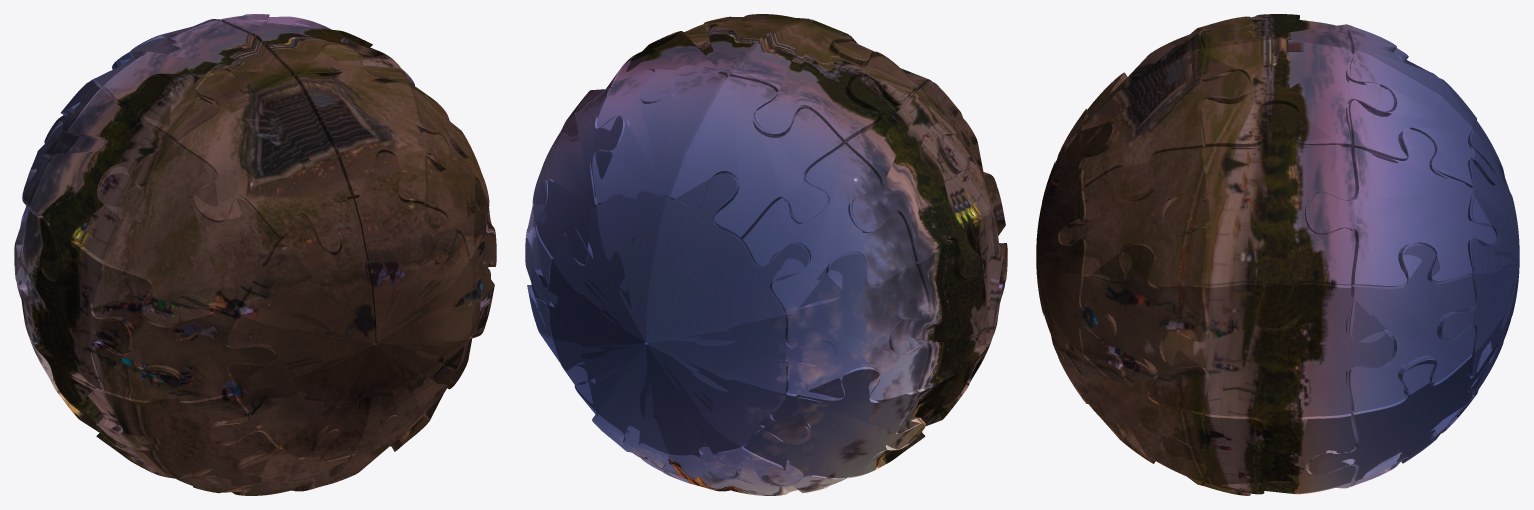
The model's file is easy-puzzle-v27.fbx.
3 views of the same model, side by side, from view 1: azimuth 30°, elevation 25°; view 2: azimuth 150°, elevation 25°; view 3: azimuth 270°, elevation 25° (orthographic).
Parts seen in each view (by area): view 1: Puzzle.001, Puzzle.005, Puzzle.025, Puzzle.023, Puzzle.026, Puzzle.004, Puzzle.016, Puzzle.006, Puzzle.027, Puzzle.024, Puzzle.003, Puzzle.028 (+8 smaller); view 2: Puzzle.002, Puzzle.023, Puzzle.008, Puzzle.009, Puzzle.007, Puzzle.010, Puzzle.016, Puzzle.006, Puzzle.032, Puzzle.015, Puzzle.003, Puzzle.011 (+8 smaller); view 3: Puzzle.022, Puzzle.021, Puzzle.015, Puzzle.024, Puzzle.003, Puzzle.031, Puzzle.014, Puzzle.020, Puzzle.004, Puzzle.001, Puzzle.002, Puzzle.032 (+7 smaller).
Boxes of the visible parts, x1,y1,x2,y2 form: Puzzle.001: [211, 152, 489, 460]; Puzzle.005: [178, 70, 351, 254]; Puzzle.025: [99, 144, 280, 325]; Puzzle.023: [30, 76, 177, 279]; Puzzle.026: [93, 263, 276, 400]; Puzzle.004: [294, 44, 449, 204]; Puzzle.016: [15, 210, 134, 405]; Puzzle.006: [104, 20, 291, 143]; Puzzle.027: [98, 365, 278, 486]; Puzzle.024: [411, 88, 488, 264]; Puzzle.003: [221, 14, 408, 85]; Puzzle.028: [177, 424, 358, 495]; Puzzle.002: [532, 173, 835, 477]; Puzzle.023: [844, 76, 990, 280]; Puzzle.008: [741, 144, 915, 312]; Puzzle.009: [785, 252, 928, 400]; Puzzle.007: [670, 76, 843, 239]; Puzzle.010: [743, 364, 923, 485]; Puzzle.016: [889, 210, 1006, 405]; Puzzle.006: [730, 20, 917, 143]; Puzzle.032: [592, 67, 727, 236]; Puzzle.015: [533, 88, 629, 265]; Puzzle.003: [613, 14, 800, 103]; Puzzle.011: [663, 446, 844, 495]; Puzzle.022: [1162, 103, 1355, 331]; Puzzle.021: [1162, 282, 1393, 451]; Puzzle.015: [1305, 130, 1495, 286]; Puzzle.024: [1060, 147, 1209, 286]; Puzzle.003: [1200, 38, 1394, 149]; Puzzle.031: [1081, 243, 1209, 412]; Puzzle.014: [1346, 243, 1475, 412]; Puzzle.020: [1162, 410, 1355, 493]; Puzzle.004: [1081, 49, 1250, 200]; Puzzle.001: [1036, 111, 1119, 401]; Puzzle.002: [1437, 81, 1519, 423]; Puzzle.032: [1345, 50, 1495, 187].
Size of the model in its own units: 6.82 by 6.85 by 6.85.
